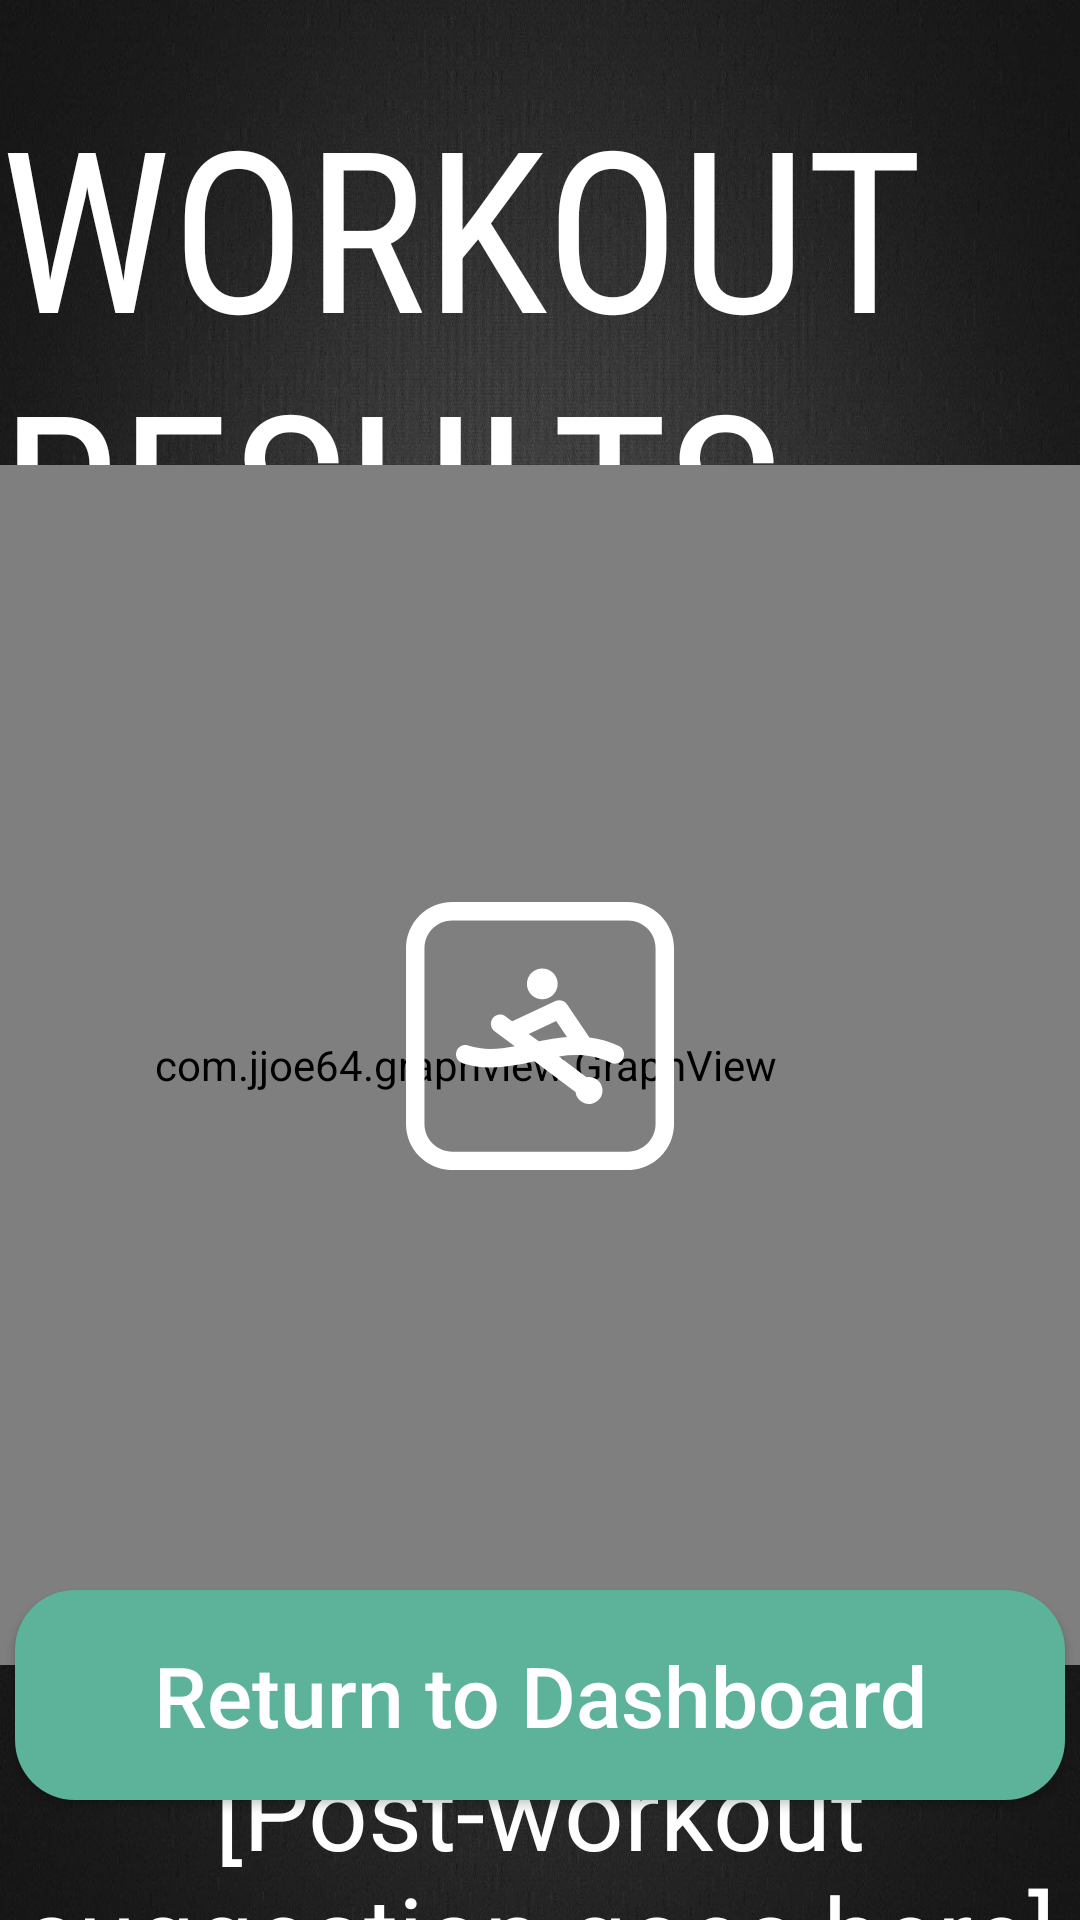

Named icons in this screenshot (1080*1920) and their centers, (x,y):
rowing empty: (540,1036)
